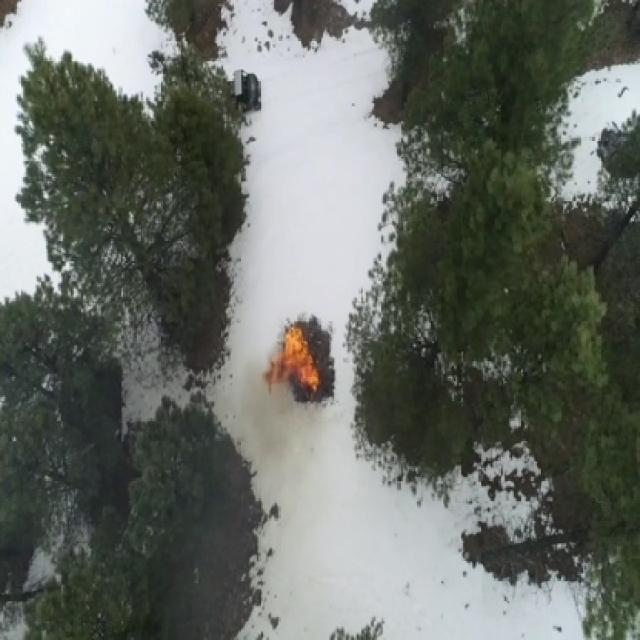Fire: (263, 322, 320, 398)
